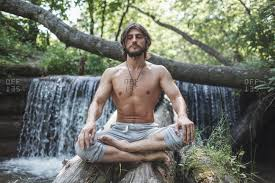sitting: (69, 20, 211, 165)
